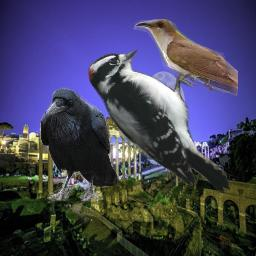Crow: (39, 87, 119, 201)
Cuckoo: (133, 19, 238, 96)
Woodpecker: (88, 49, 230, 193)
